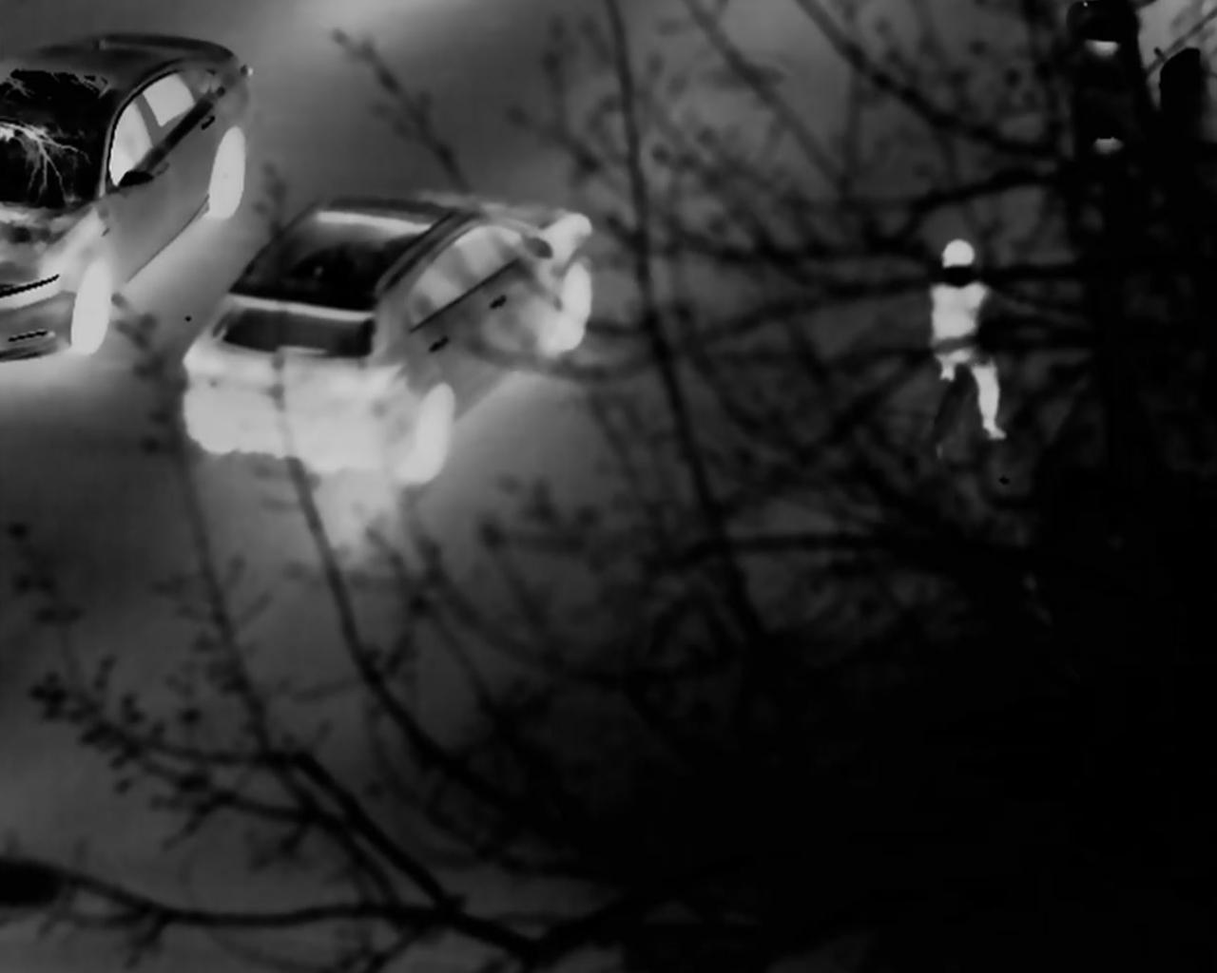person: (917, 236, 1014, 443)
